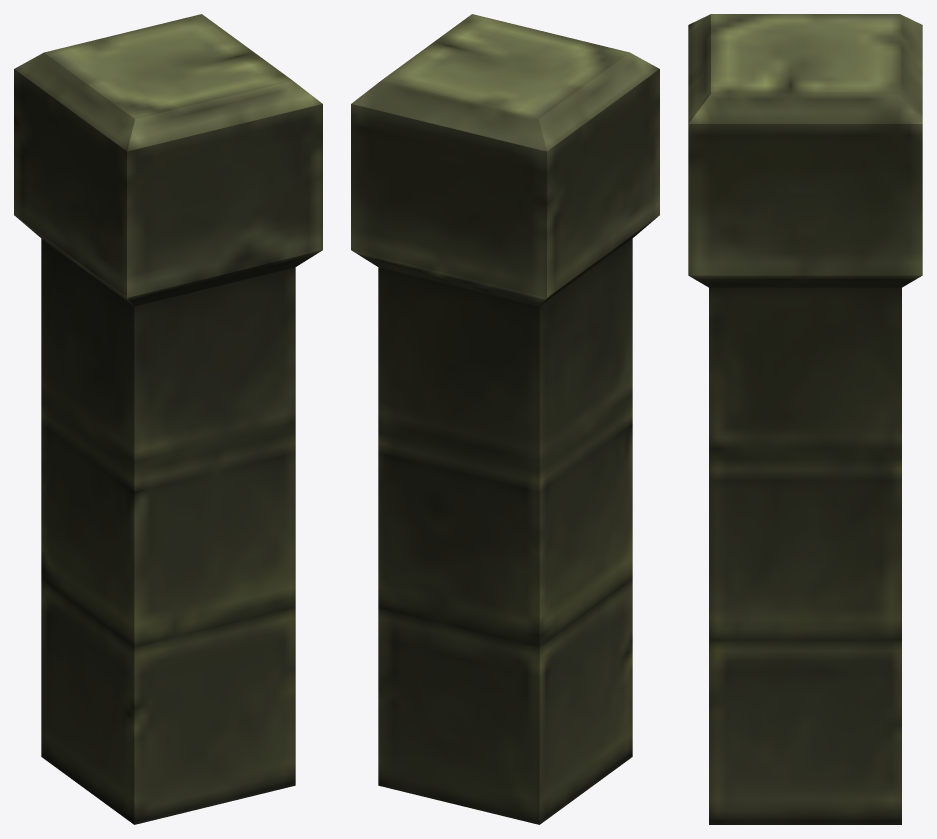
The model's file is pillar_small_top.fbx.
The picture shows the model from 3 angles, left to right: view 1: azimuth 30°, elevation 25°; view 2: azimuth 150°, elevation 25°; view 3: azimuth 270°, elevation 25°; orthographic projection. The views are drawn at different scales.
Visible parts, largest first — view 1: pillar_small_top; view 2: pillar_small_top; view 3: pillar_small_top.
Part boxes in pixels (box(x1,y1,x2,y2)): pillar_small_top: box(14, 14, 322, 824); pillar_small_top: box(351, 14, 659, 824); pillar_small_top: box(688, 14, 922, 824).
Size of the model in its own units: 97.03 by 334 by 97.03.
